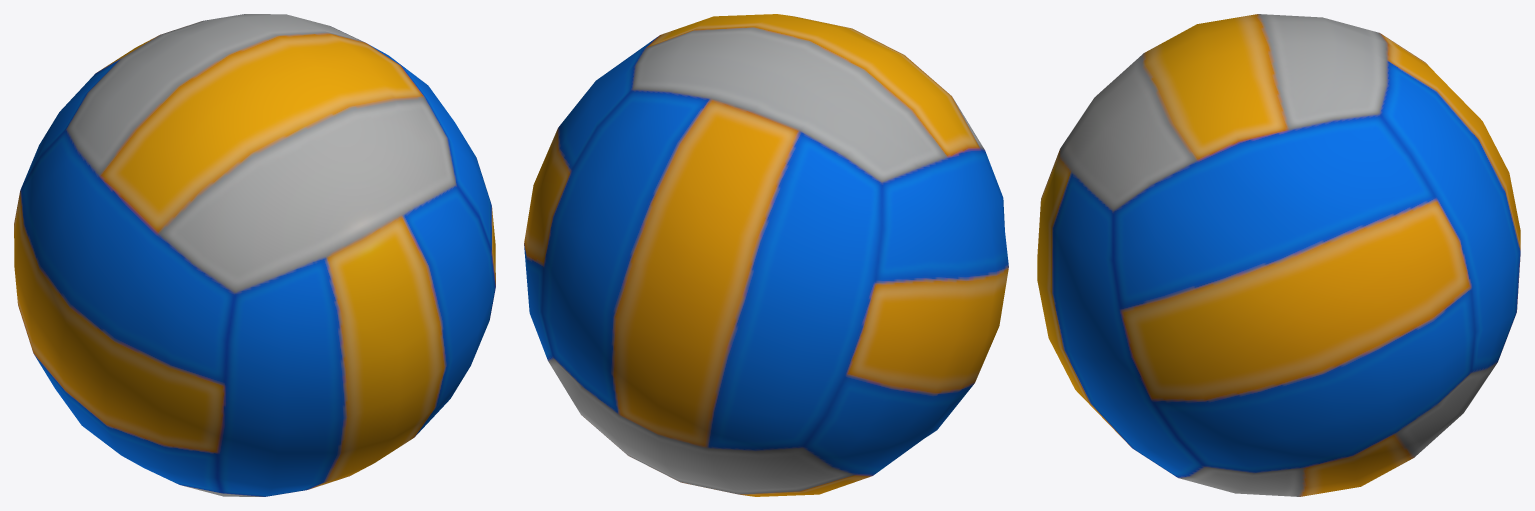
3 renders of one model, left to right at view 1: azimuth 30°, elevation 25°; view 2: azimuth 150°, elevation 25°; view 3: azimuth 270°, elevation 25°, orthographic.
Parts seen in each view (by area): view 1: ball4; view 2: ball4; view 3: ball4.
Boxes of the visible parts, x1=… form: ball4: x1=14, y1=14, x2=495, y2=496; ball4: x1=524, y1=14, x2=1008, y2=496; ball4: x1=1037, y1=14, x2=1520, y2=496.
Bounding box in the file's own units: 0.591 × 0.5964 × 0.5944.
Materials: 1 (1 with a texture image).
